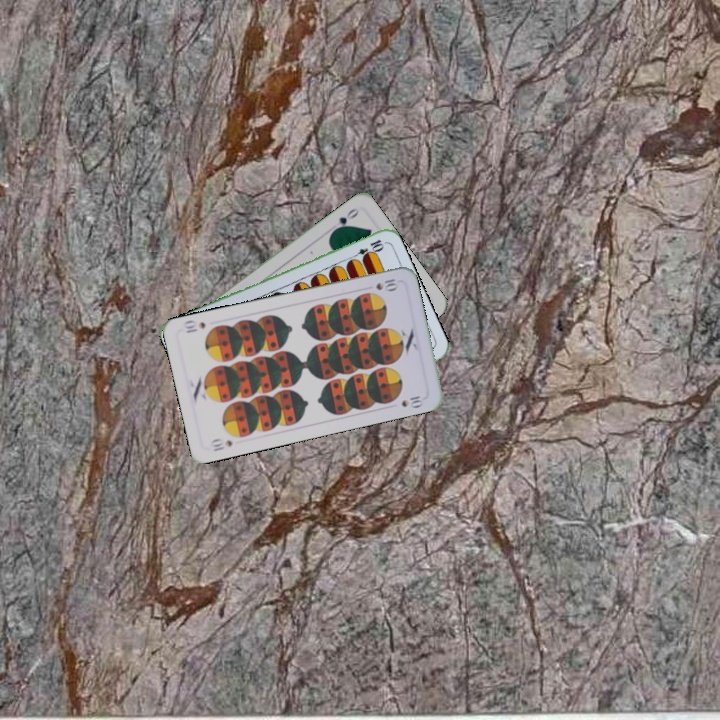E10: (347, 235, 386, 262)
GO: (328, 204, 361, 235)
S10: (207, 435, 235, 454), (372, 275, 401, 293)
